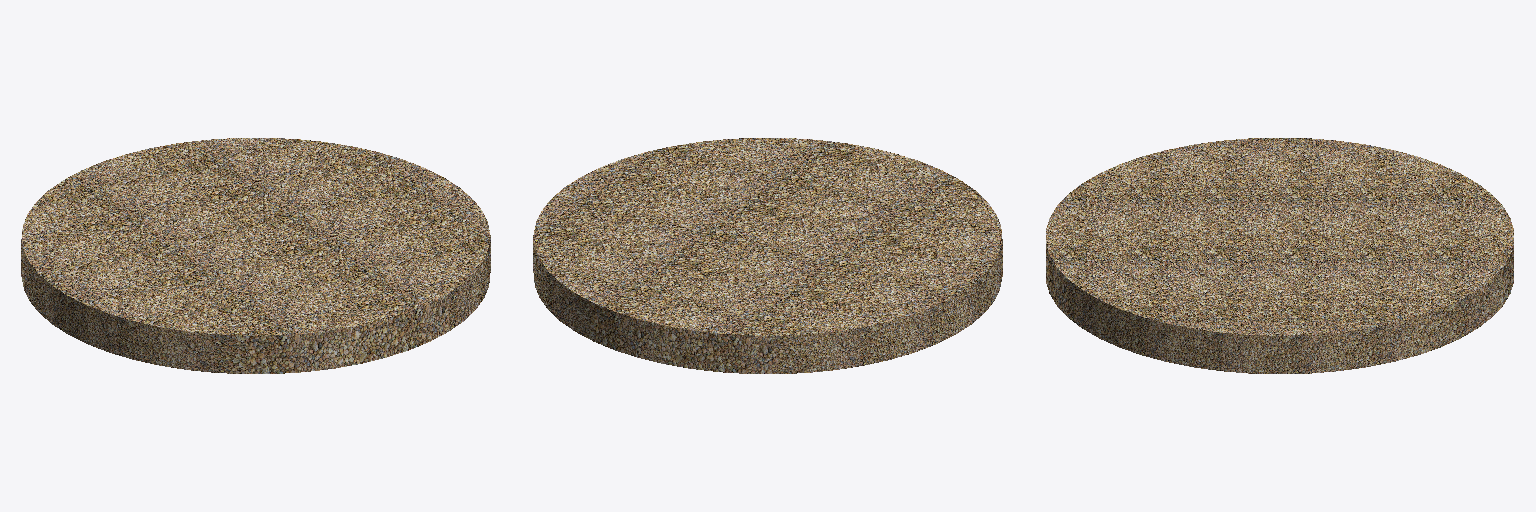
The picture shows the model from 3 angles: view 1: azimuth 30°, elevation 25°; view 2: azimuth 150°, elevation 25°; view 3: azimuth 270°, elevation 25°; orthographic projection.
Parts seen in each view (by area): view 1: Piso; view 2: Piso; view 3: Piso.
Boxes of the visible parts, x1,y1,x2,y2 form: Piso: [21, 138, 490, 373]; Piso: [533, 138, 1002, 373]; Piso: [1046, 138, 1513, 373].
Size of the model in its own units: 110 by 10 by 110.
1 materials, 1 textured.